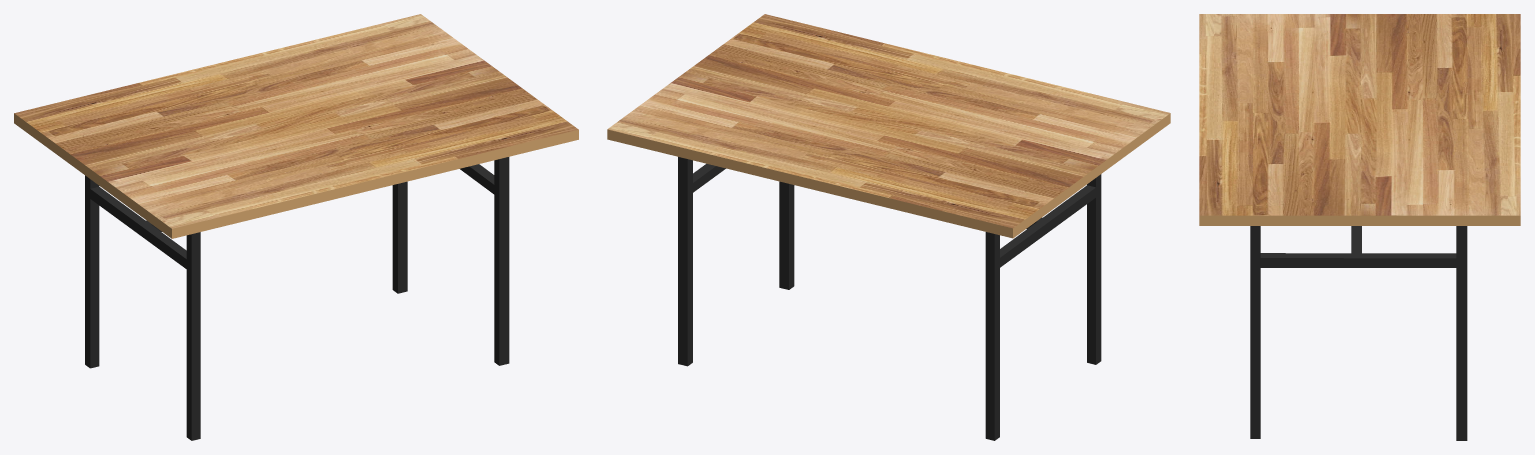
The model's file is table1.fbx.
The picture shows the model from 3 angles, left to right: view 1: azimuth 30°, elevation 25°; view 2: azimuth 150°, elevation 25°; view 3: azimuth 270°, elevation 25°; orthographic projection.
Visible parts, largest first — view 1: Cube.001; view 2: Cube.001; view 3: Cube.001.
Part boxes in pixels (x1=…): Cube.001: x1=14, y1=14, x2=578, y2=440; Cube.001: x1=607, y1=14, x2=1170, y2=440; Cube.001: x1=1199, y1=14, x2=1520, y2=440.
Size of the model in its own units: 9057 by 5179 by 6092.
